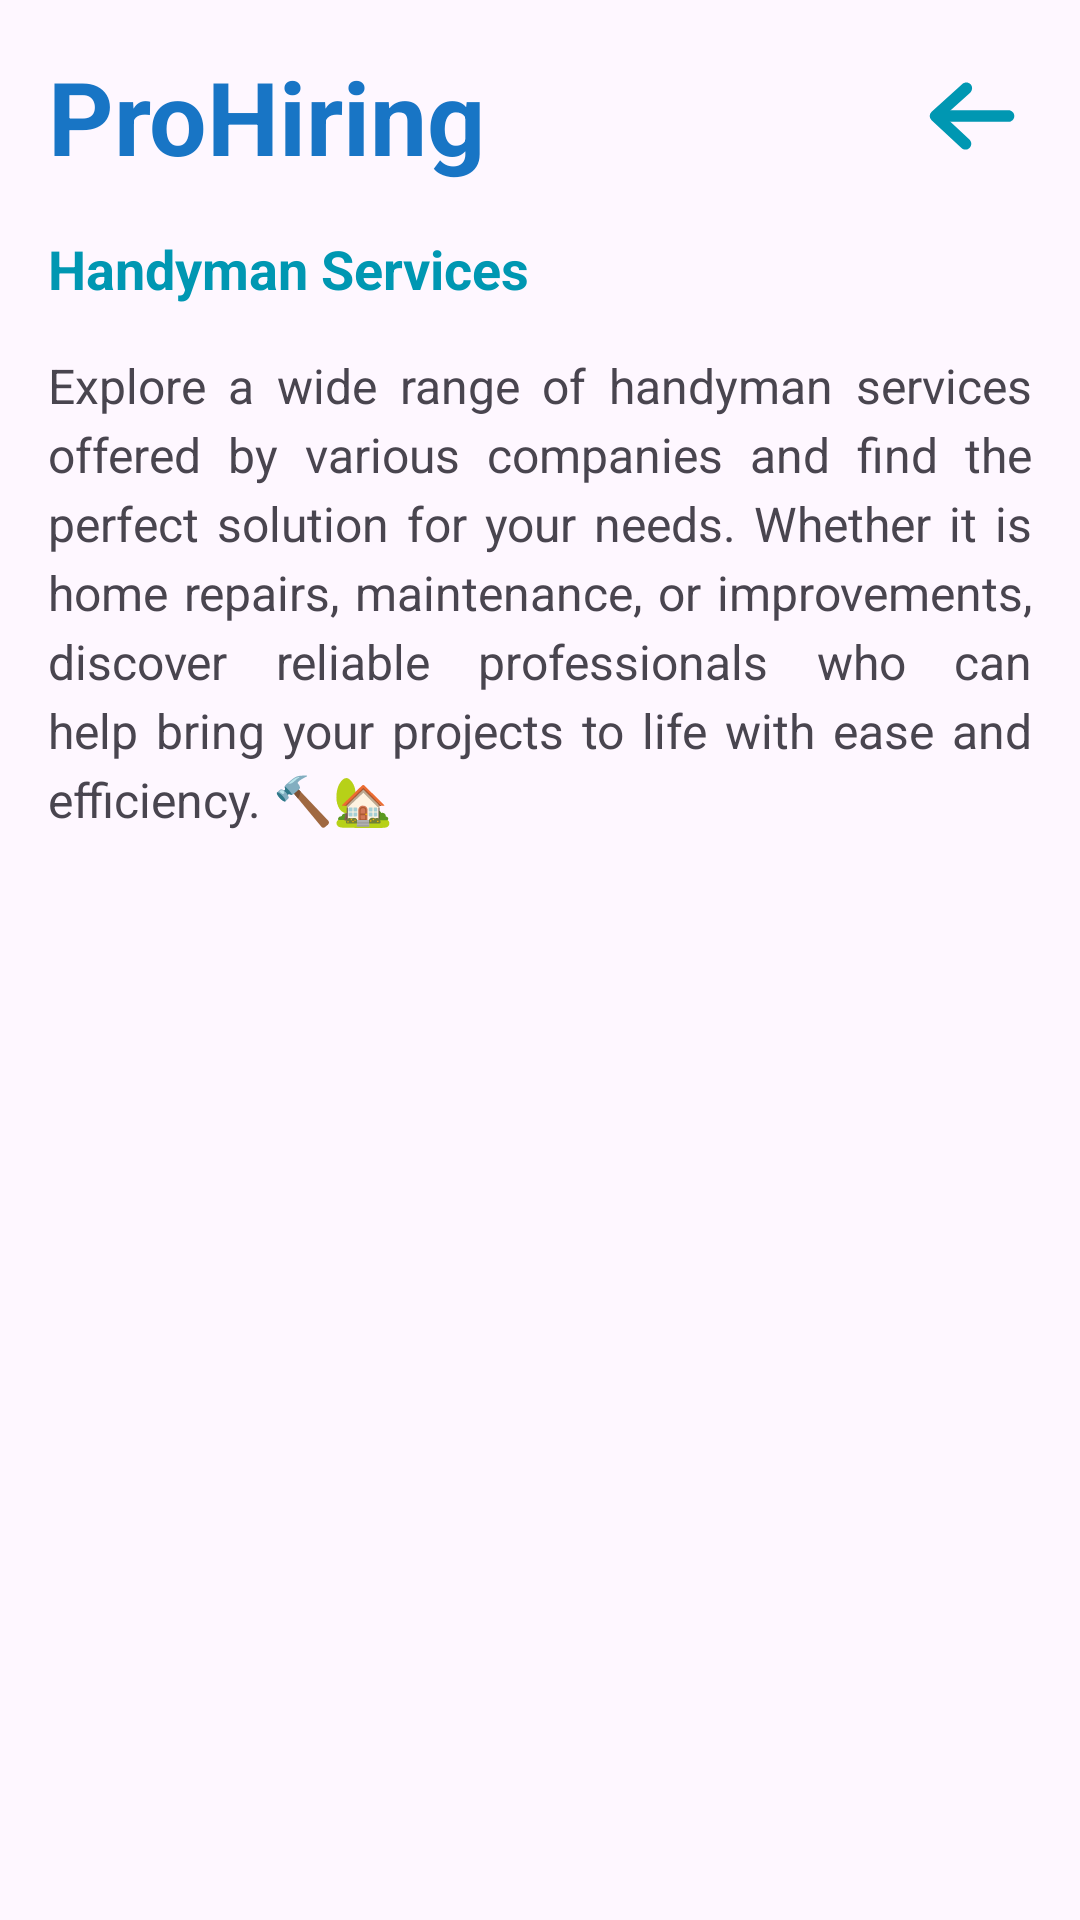

Icon bounding boxes for this 1080x1920 phone screenshot, format (x1, y1, x2, y2):
Back: (929, 82, 1015, 150)
